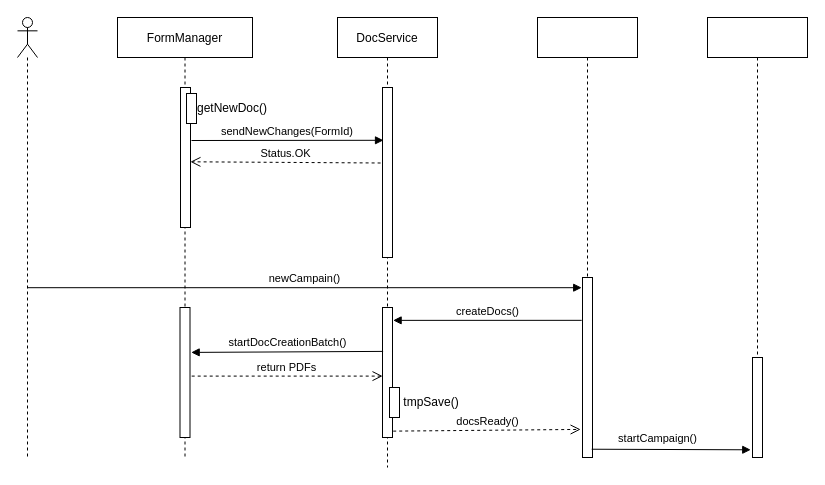
Some shapes in this 825 by 485 pixel diagram are drawn without their labels. Here are the shapes that lost their labels. From the top down, the box of each, then its label:
(536, 16, 638, 458): BlueBoxService
(706, 16, 808, 458): MessageHub
